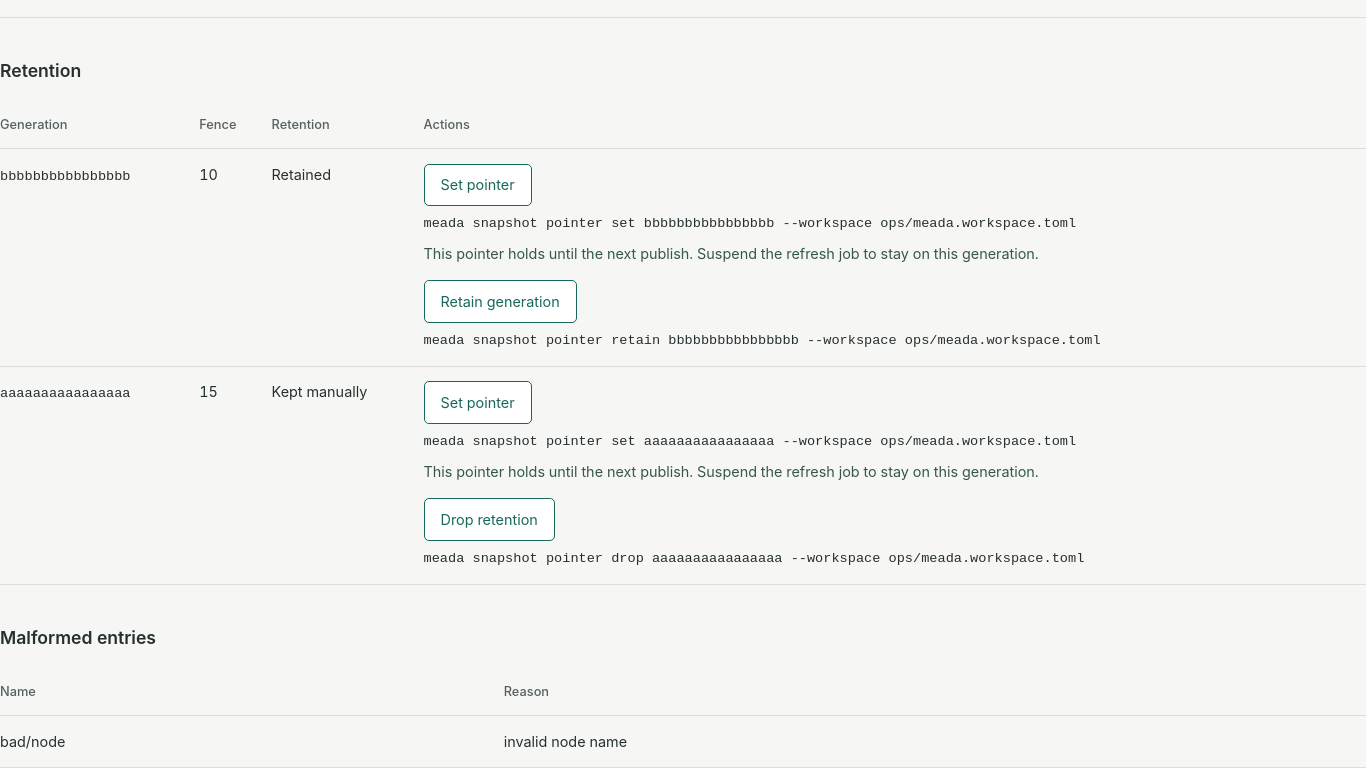
Test case: a refused operation displays the exact holder message and does not reload or dismiss confirmation
This screenshot has width=1366, height=768.
(page scrolled)
Click the button with aria-label "Drop retention aaaaaaaaaaaaaaaa" at (489, 520), box x1=424 y1=498 x2=555 y2=541
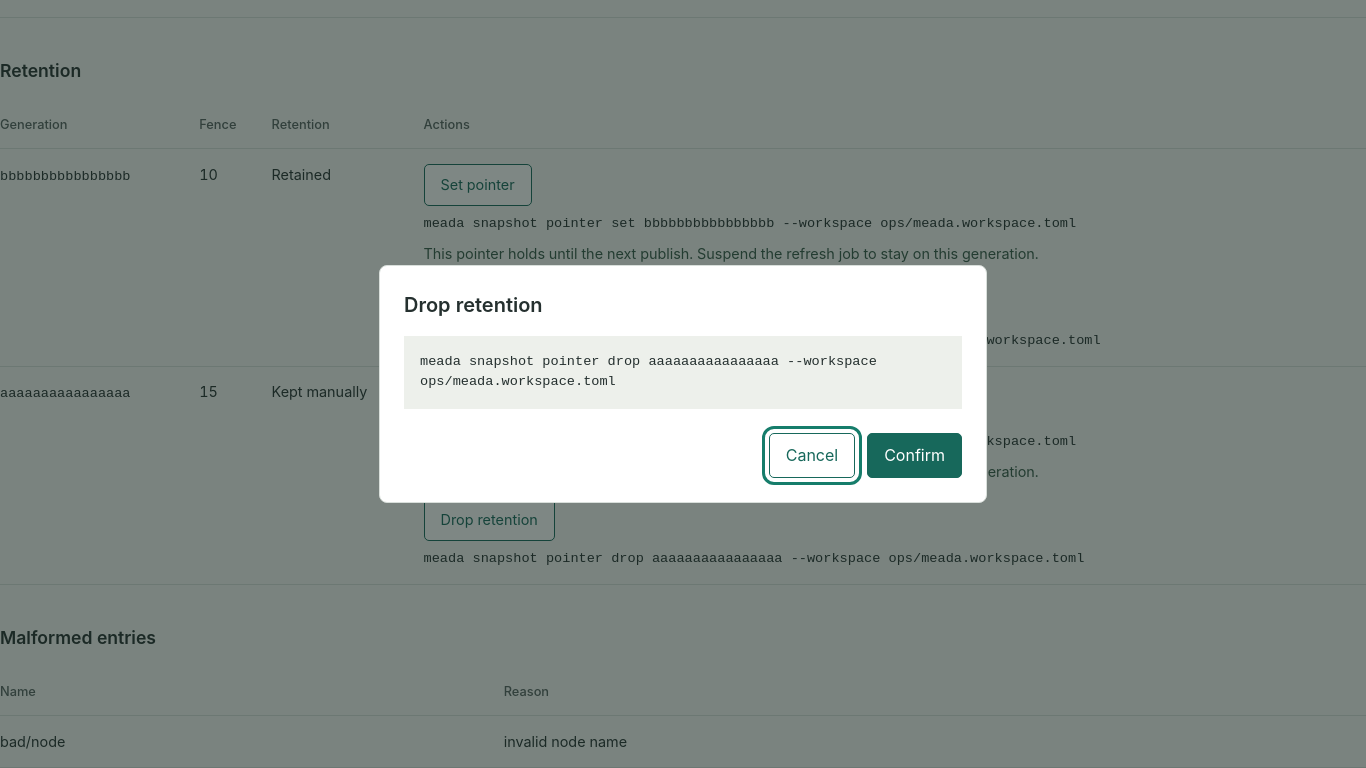
Click the button "Confirm" at (915, 455), box x1=867 y1=433 x2=962 y2=478
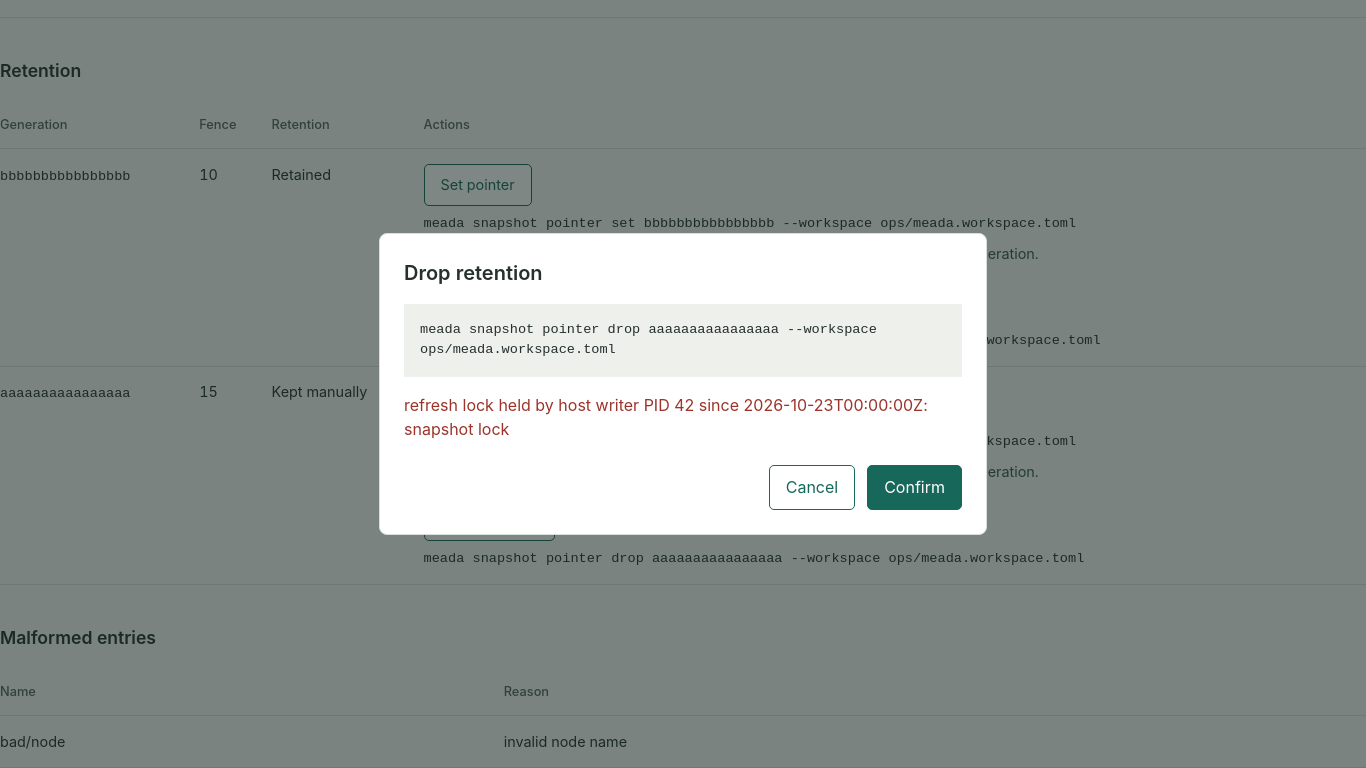
Result: the message shows "refresh lock held by host writer PID 42 since 2026-10-23T00:00:00Z: snapshot lock" at x1=404 y1=395 x2=928 y2=439
